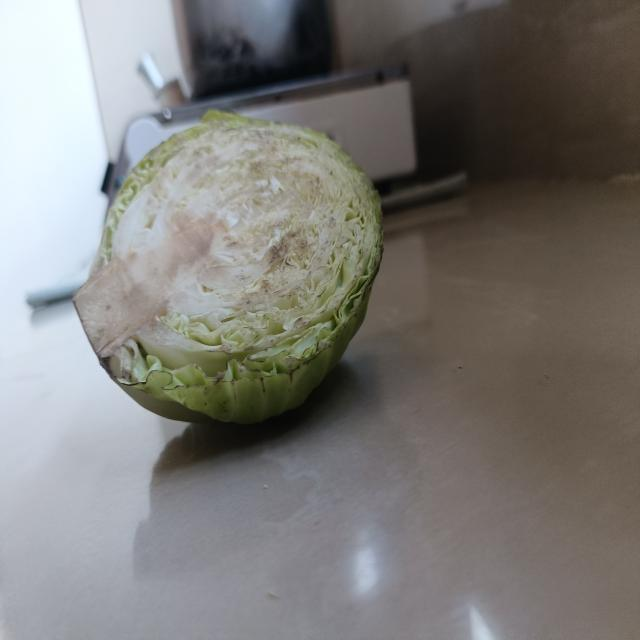cabbage: (88, 106, 384, 428)
